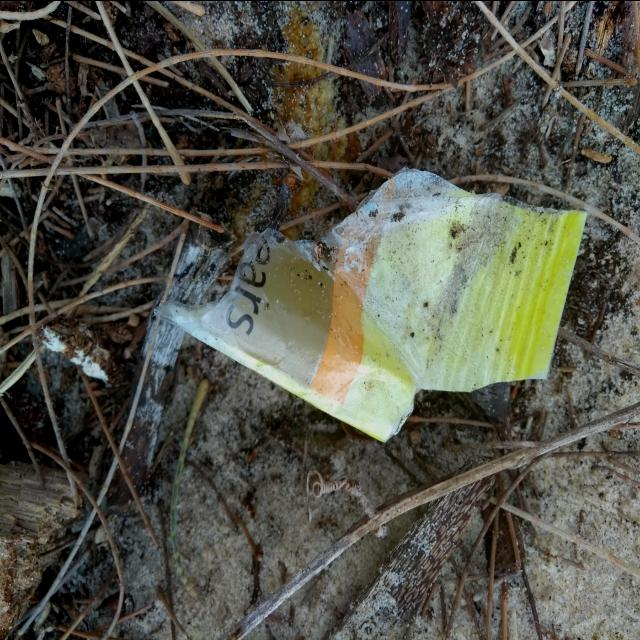Plastic film: (154, 170, 587, 441)
